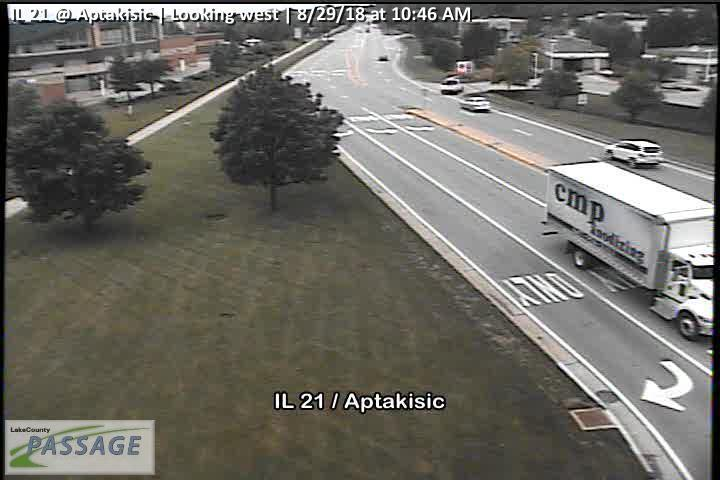SUV: (604, 139, 662, 169), (440, 77, 465, 96)
Sedan: (458, 95, 491, 112)
Truck: (542, 160, 714, 341)
